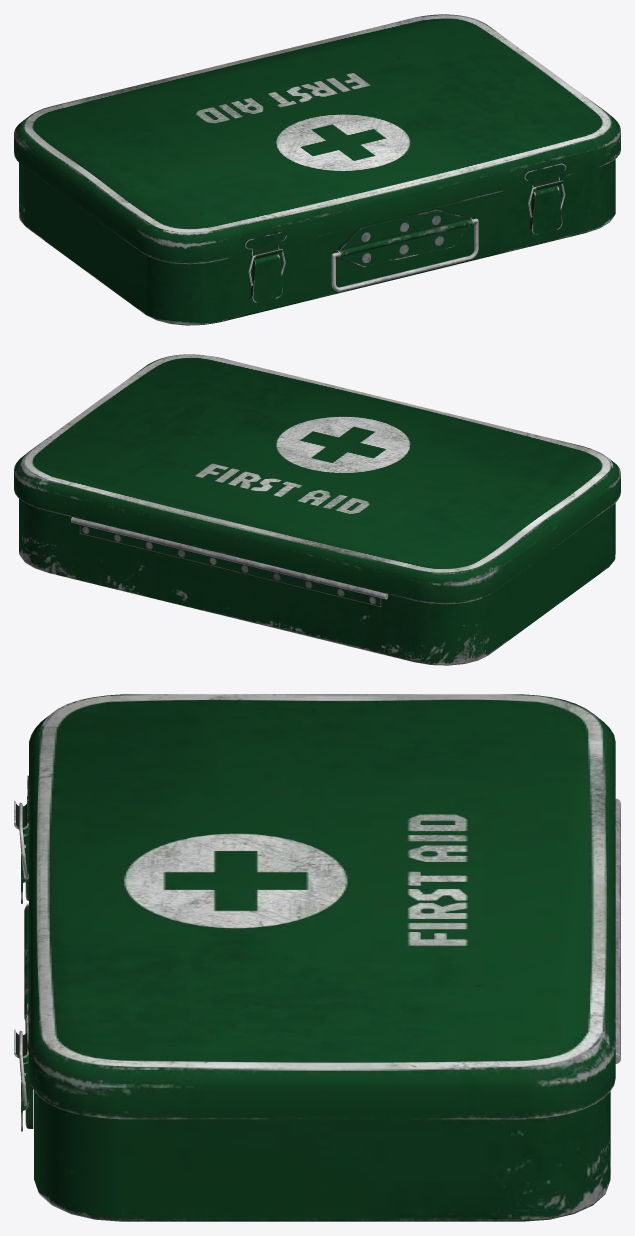
Rendered from medical_box.glb.
3 views of the same model, one above another, from view 1: azimuth 30°, elevation 25°; view 2: azimuth 150°, elevation 25°; view 3: azimuth 270°, elevation 25° (orthographic). The views are drawn at different scales.
Visible parts, largest first — view 1: medical_box_lid, medical_box, medical_box_latch, medical_box_handle; view 2: medical_box_lid, medical_box; view 3: medical_box_lid, medical_box.
Part boxes in pixels (left/top/right/bottom): medical_box_lid: left=14, top=14, right=620, bottom=264; medical_box: left=19, top=159, right=615, bottom=325; medical_box_latch: left=251, top=185, right=562, bottom=302; medical_box_handle: left=331, top=218, right=478, bottom=291; medical_box_lid: left=14, top=354, right=620, bottom=603; medical_box: left=19, top=499, right=615, bottom=665; medical_box_lid: left=14, top=694, right=615, bottom=1119; medical_box: left=24, top=798, right=620, bottom=1221.
Size of the model in its own units: 0.5255 by 0.0975 by 0.3502.
1 material, 1 textured.
